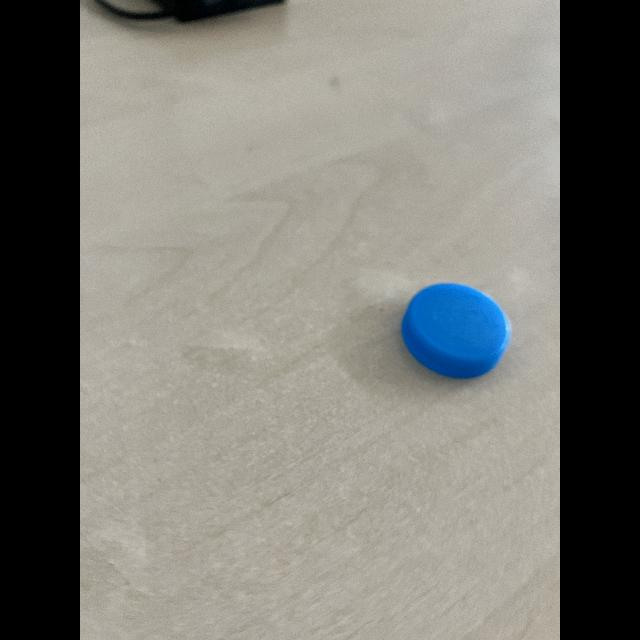plastic_bottle_cap: (392, 270, 516, 380)
